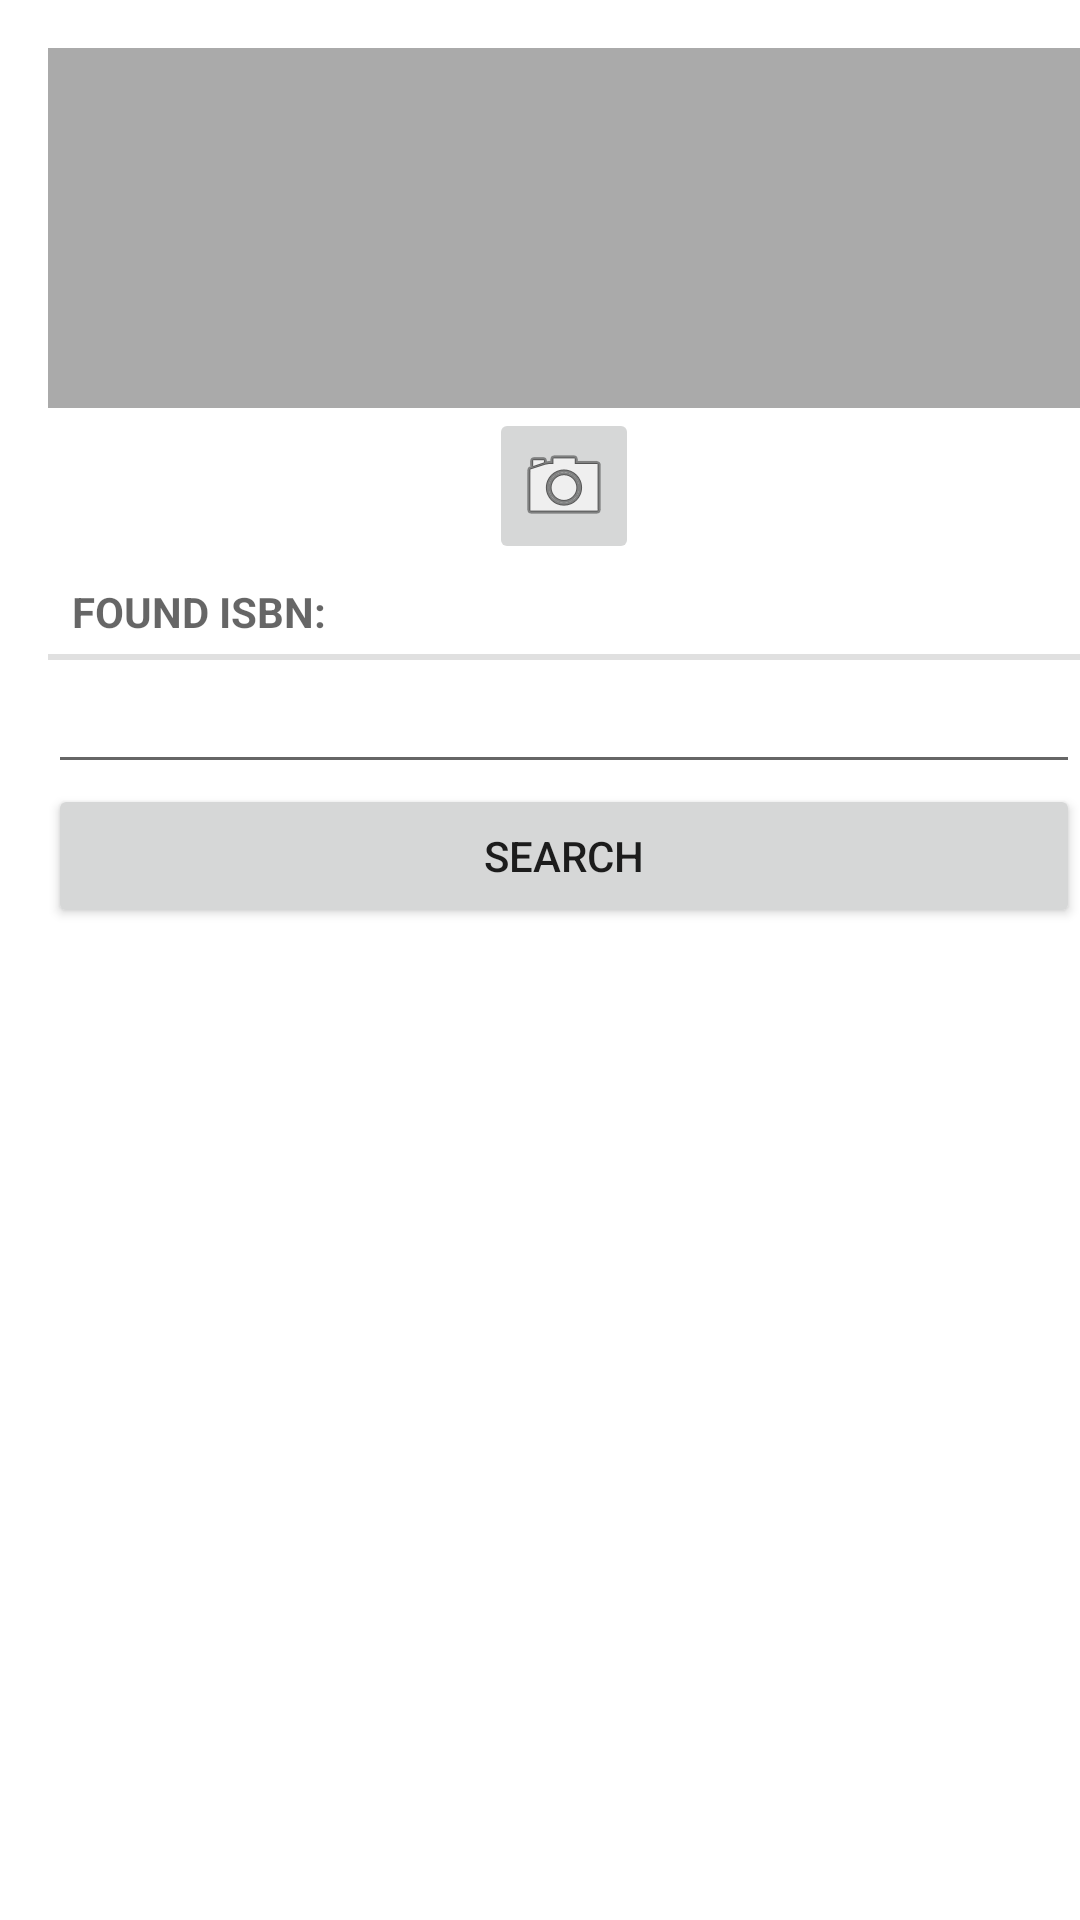

Point at icon controls on the screen. Image size 1080px×1920px, points as point (x, y).
camera: point (564, 486)
